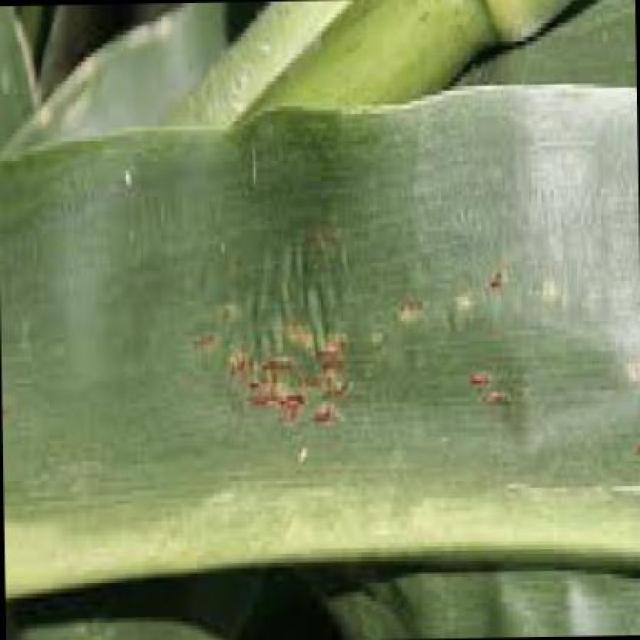Corn_Rust: (18, 105, 627, 499)
